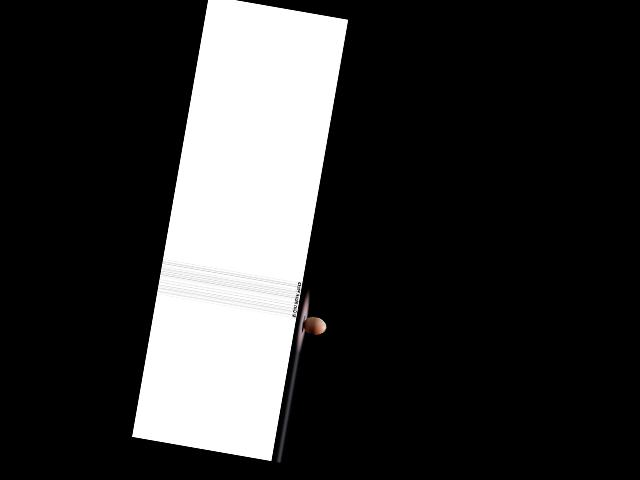egg: (301, 314, 327, 336)
